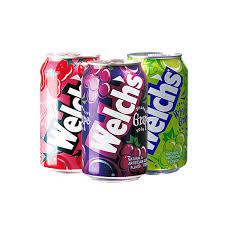welchs_grape: (78, 58, 151, 183)
